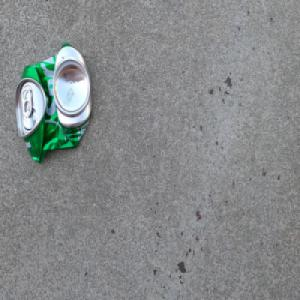SodaCan: (14, 42, 92, 165)
